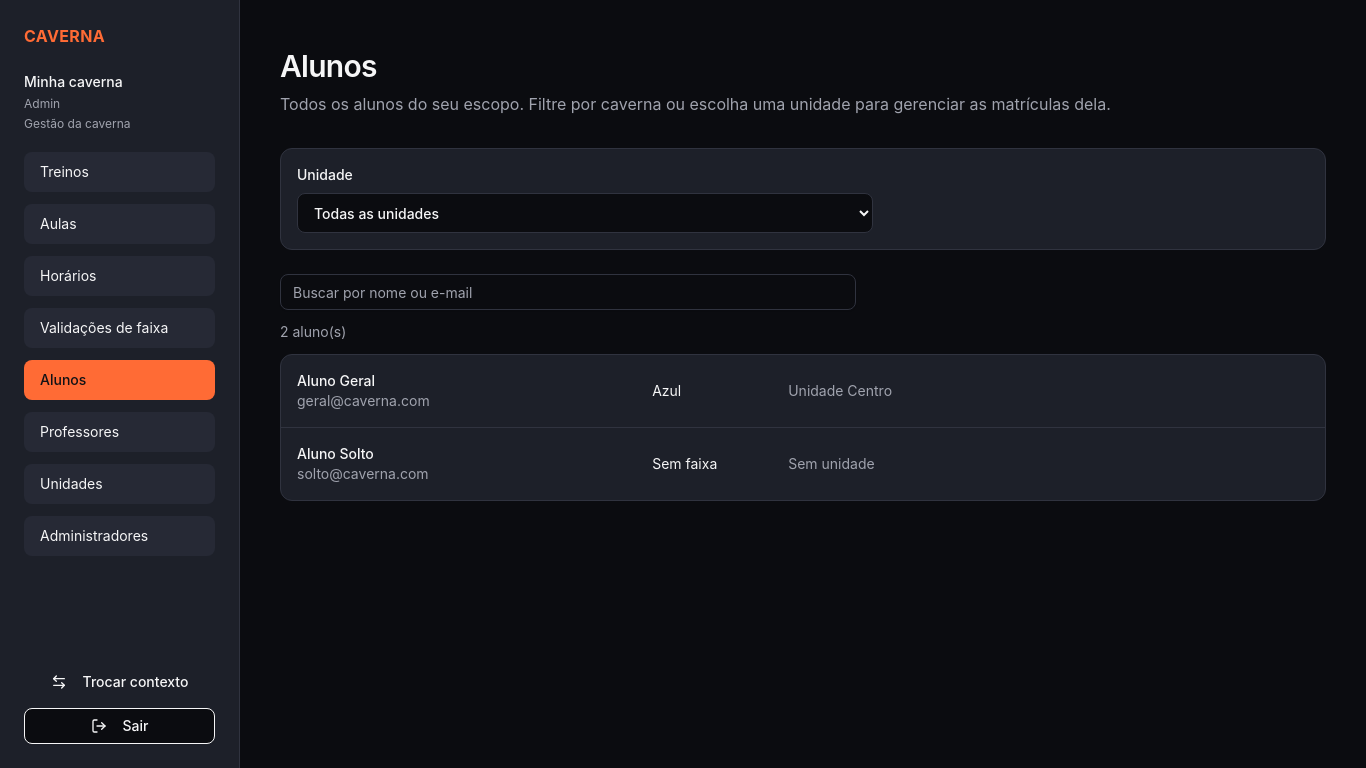
it: lists active units in a dropdown and loads students when one is selected
Select "Unidade Centro · Centro" in the dropdown labelled "Unidade" at (585, 213), box [297,193,873,233]
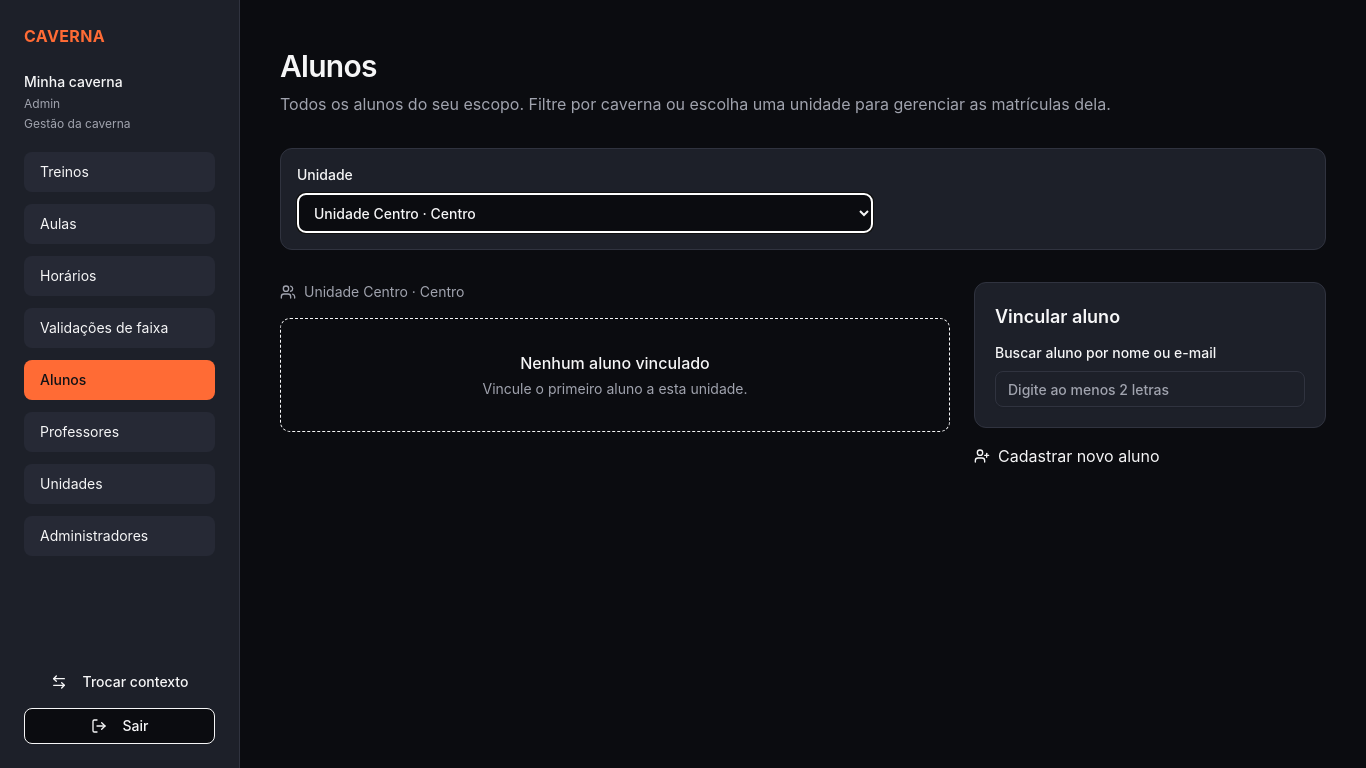
Result: the text "Unidade Centro · Centro" is shown 2 times
Result: the heading "Nenhum aluno vinculado" is shown at [520,353,710,373]
